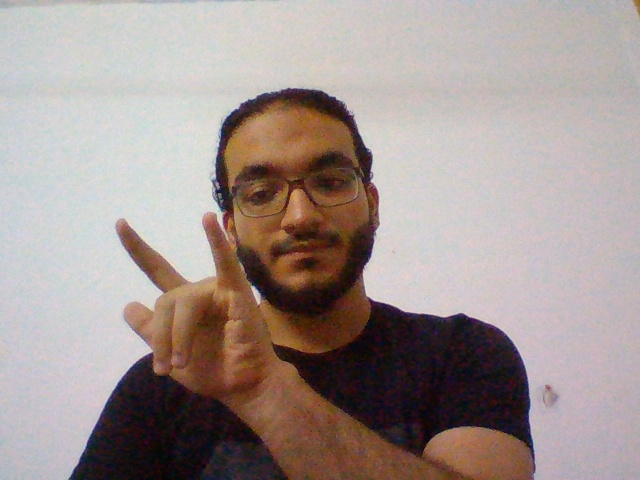I Love Yoy: (111, 208, 277, 388)
